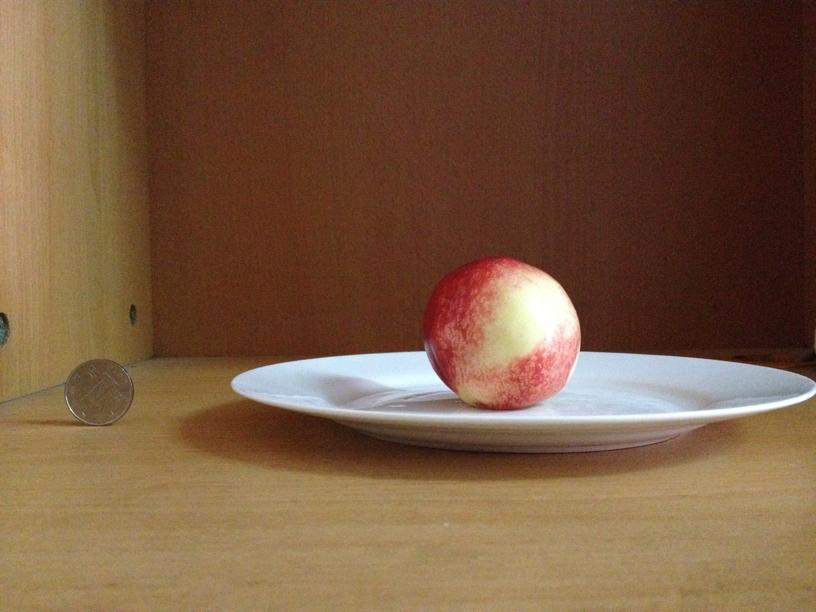coin: (63, 362, 133, 425)
peach: (421, 256, 580, 408)
